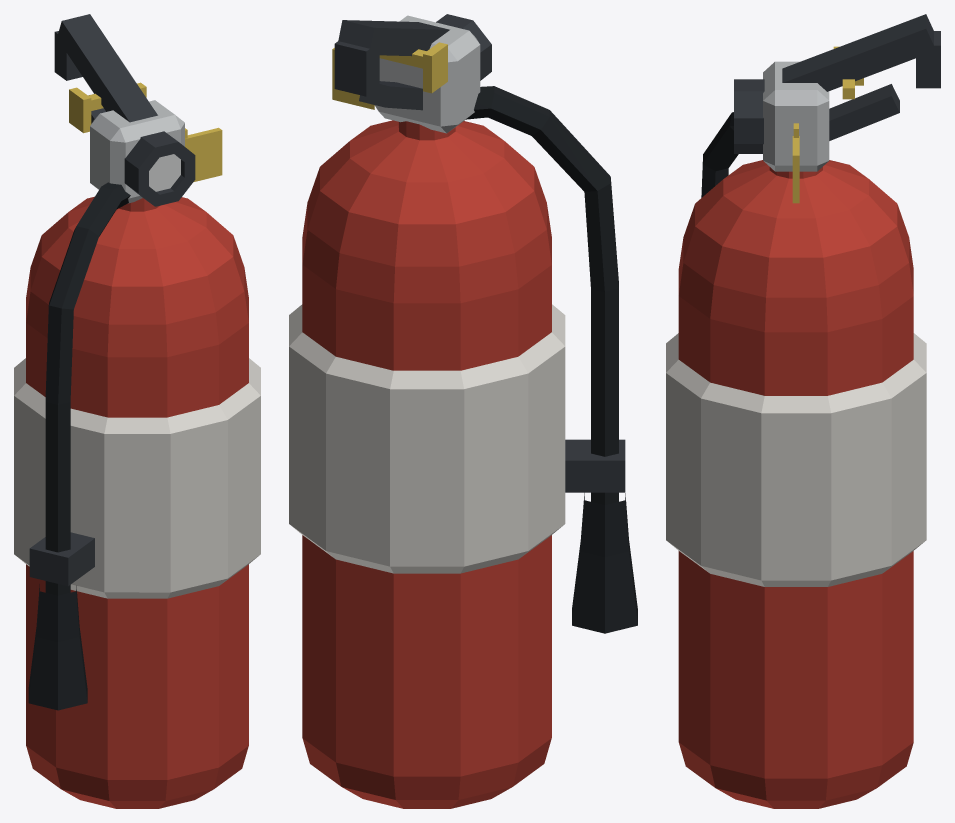
File: extinguisher.glb
The picture shows the model from 3 angles, left to right: view 1: azimuth 30°, elevation 25°; view 2: azimuth 150°, elevation 25°; view 3: azimuth 270°, elevation 25°; orthographic projection. The views are drawn at different scales.
Visible parts, largest first — view 1: fire-extinguisher, pin; view 2: fire-extinguisher, pin, trigger; view 3: fire-extinguisher, trigger.
Part boxes in pixels (<box>): fire-extinguisher: <box>14,14,260,808</box>; pin: <box>69,82,146,133</box>; fire-extinguisher: <box>289,14,637,808</box>; pin: <box>379,42,447,93</box>; trigger: <box>359,81,422,110</box>; fire-extinguisher: <box>666,14,940,808</box>; trigger: <box>829,84,899,140</box>.
Bounding box in the file's own units: 0.2251 × 0.6005 × 0.1988.
